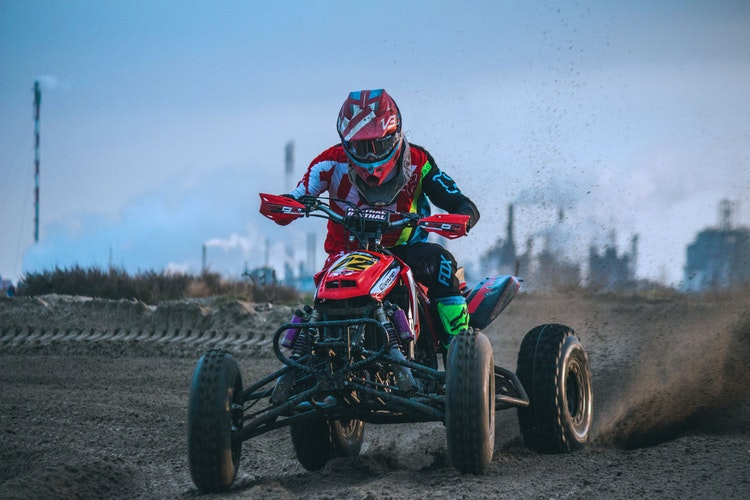helmet: (334, 97, 416, 174)
